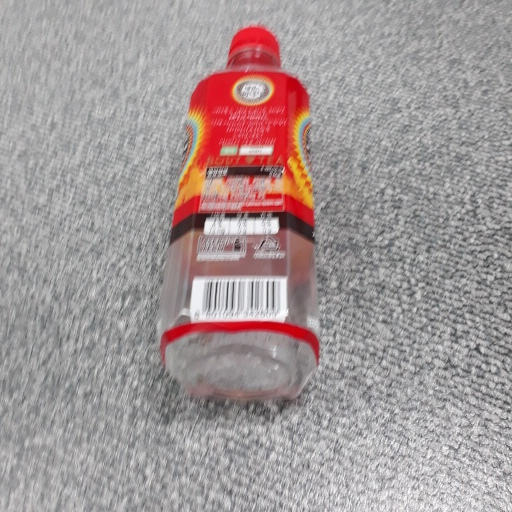Plastic_0: (157, 25, 325, 408)
